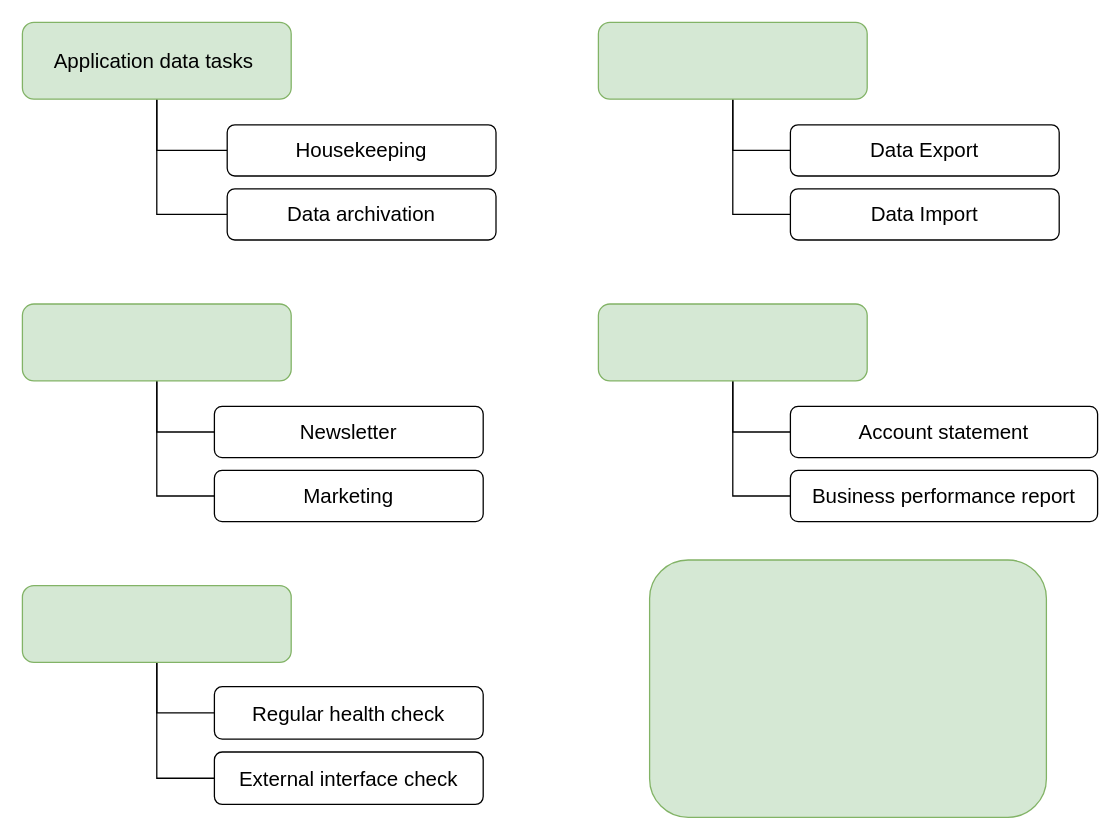
This 1120x840 diagram has some shape labels left out. Each missing label, with the centre of its shape:
@EnableScheduling @Scheduled fixedRate fixedDelay initialDelay cron @Async: (x=847, y=688)
Data synchronization: (x=732, y=60)
Monitoring: (x=156, y=623)
Notifications: (x=156, y=342)
Reporting: (x=732, y=342)
